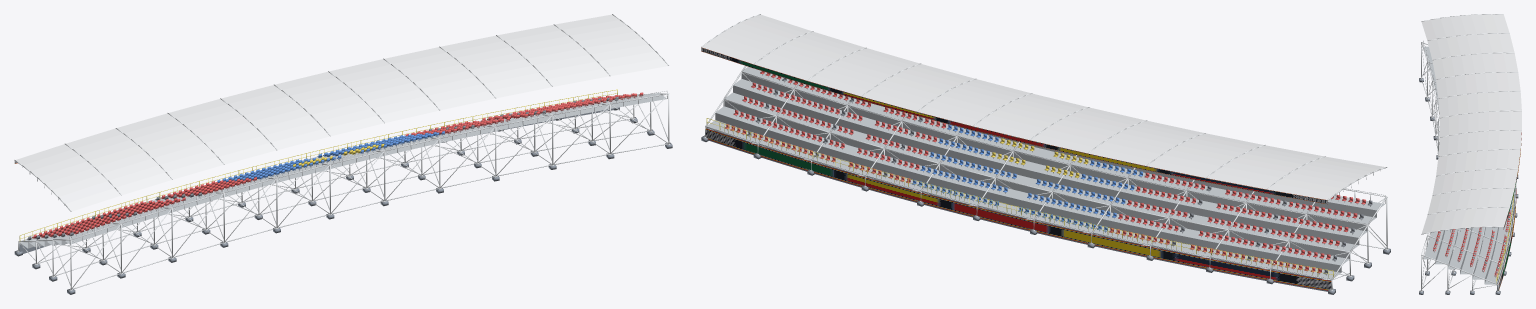
File: photorealistic_secondary_grandstand.glb
3 renders of one model, left to right at view 1: azimuth 30°, elevation 25°; view 2: azimuth 150°, elevation 25°; view 3: azimuth 270°, elevation 25°, orthographic. The views are drawn at different scales.
Visible parts, largest first — view 1: Grandstand_Canopy, Grandstand_Scaffolding, Grandstand_Decking, Grandstand_Seats_Red, Grandstand_Concrete, Grandstand_Seats_Blue, Grandstand_Railings, Grandstand_Seats_Grey; view 2: Grandstand_Decking, Grandstand_Canopy, Grandstand_Banners, Grandstand_Scaffolding, Grandstand_Seats_Red, Grandstand_Concrete, Grandstand_Seats_Blue, Grandstand_Railings, Grandstand_Seats_Grey, Grandstand_Seats_Gold; view 3: Grandstand_Canopy, Grandstand_Decking, Grandstand_Scaffolding, Grandstand_Seats_Red, Grandstand_Concrete, Grandstand_Banners, Grandstand_Railings.
Part boxes in pixels (<box>): Grandstand_Canopy: <box>15,14,667,211</box>; Grandstand_Scaffolding: <box>14,14,670,290</box>; Grandstand_Decking: <box>20,93,666,248</box>; Grandstand_Seats_Red: <box>32,92,643,238</box>; Grandstand_Concrete: <box>14,107,672,294</box>; Grandstand_Seats_Blue: <box>217,131,444,182</box>; Grandstand_Railings: <box>19,89,617,240</box>; Grandstand_Seats_Grey: <box>27,96,618,240</box>; Grandstand_Decking: <box>707,66,1384,278</box>; Grandstand_Canopy: <box>702,14,1385,199</box>; Grandstand_Banners: <box>701,47,1331,290</box>; Grandstand_Scaffolding: <box>701,14,1388,290</box>; Grandstand_Seats_Red: <box>724,71,1365,273</box>; Grandstand_Concrete: <box>701,127,1390,294</box>; Grandstand_Seats_Blue: <box>912,124,1142,231</box>; Grandstand_Railings: <box>706,118,1333,277</box>; Grandstand_Seats_Grey: <box>746,78,1372,274</box>; Grandstand_Seats_Gold: <box>991,138,1088,177</box>; Grandstand_Canopy: <box>1421,14,1521,233</box>; Grandstand_Decking: <box>1423,46,1514,284</box>; Grandstand_Scaffolding: <box>1420,14,1521,291</box>; Grandstand_Seats_Red: <box>1433,210,1511,276</box>; Grandstand_Concrete: <box>1419,78,1518,294</box>; Grandstand_Banners: <box>1498,132,1521,290</box>; Grandstand_Railings: <box>1496,195,1513,283</box>.
Bounding box in the file's own units: 88.85 × 12.99 × 18.
Materials: 10 (1 with a texture image).
